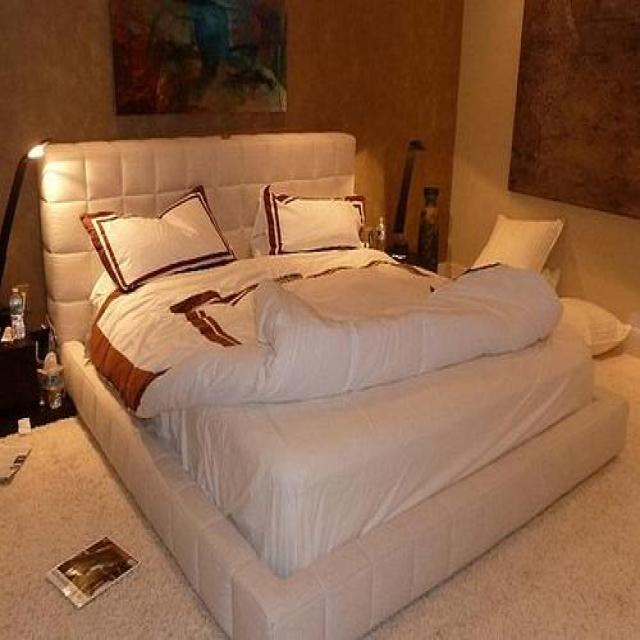bed: (34, 130, 630, 640)
